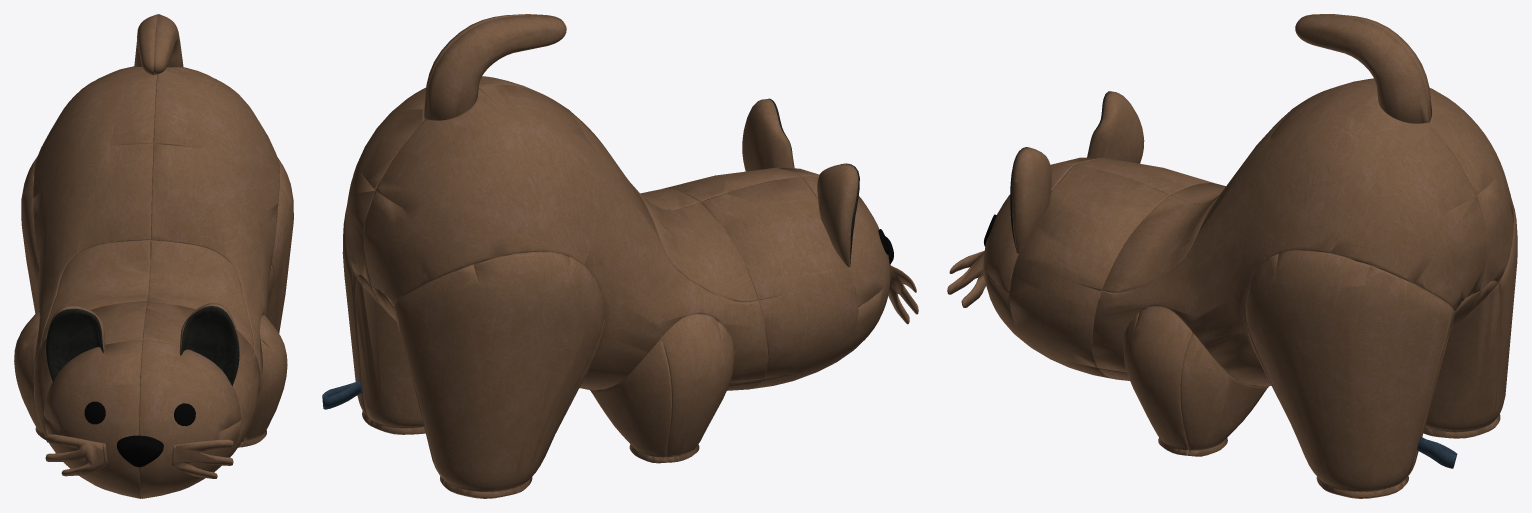
File: PELUCHE-2.glb
The picture shows the model from 3 angles, left to right: view 1: azimuth 30°, elevation 25°; view 2: azimuth 150°, elevation 25°; view 3: azimuth 270°, elevation 25°; orthographic projection. The views are drawn at different scales.
Visible parts, largest first — view 1: SketchUp, SketchUp.001, SketchUp.005; view 2: SketchUp, SketchUp.012; view 3: SketchUp, SketchUp.012.
Part boxes in pixels (x1,y1,x2,y2): SketchUp: (14,14,293,498); SketchUp.001: (46,306,239,385); SketchUp.005: (84,401,195,467); SketchUp: (342,14,918,498); SketchUp.012: (322,380,362,409); SketchUp: (947,14,1517,498); SketchUp.012: (1417,436,1457,468).
Size of the model in its own units: 0.4411 by 0.4272 by 0.5235.
Materials: 5 (4 with a texture image).
